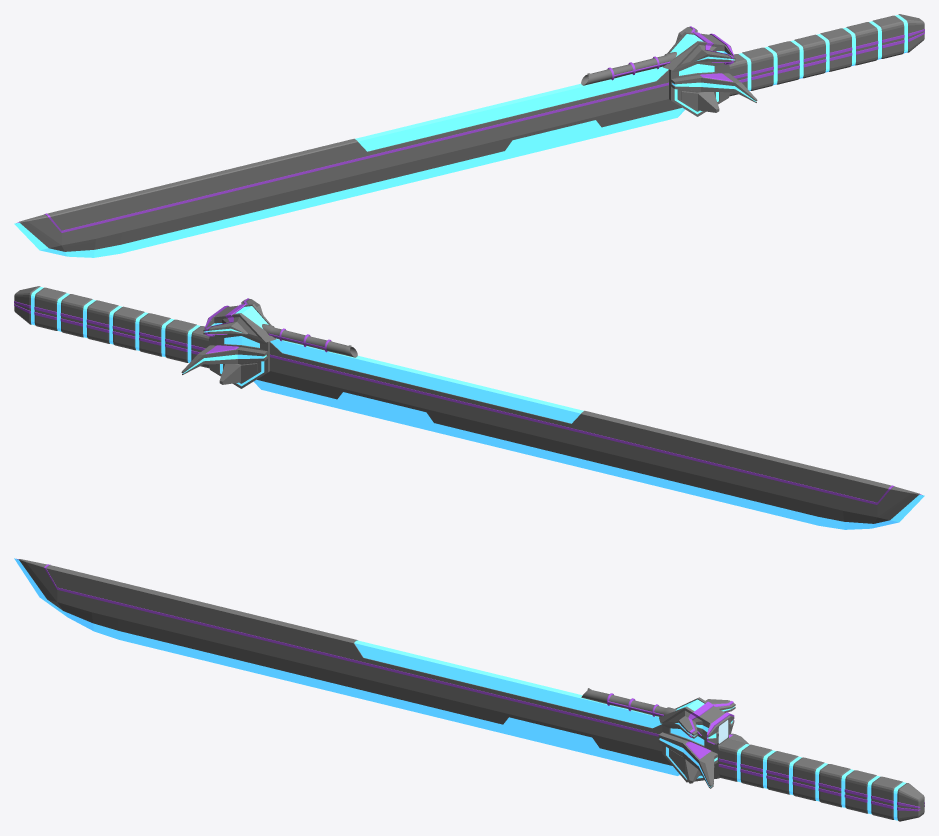
The model's file is scifi_stun_sword.glb.
3 views of the same model, one above another, from view 1: azimuth 30°, elevation 25°; view 2: azimuth 150°, elevation 25°; view 3: azimuth 330°, elevation 25° (orthographic).
Visible parts, largest first — view 1: StunSword; view 2: StunSword; view 3: StunSword.
Boxes of the visible parts, bbox=[...] form: StunSword: bbox=[14, 14, 924, 257]; StunSword: bbox=[14, 286, 924, 529]; StunSword: bbox=[14, 558, 924, 821].
Bounding box in the file's own units: 2890 × 235 × 256.
